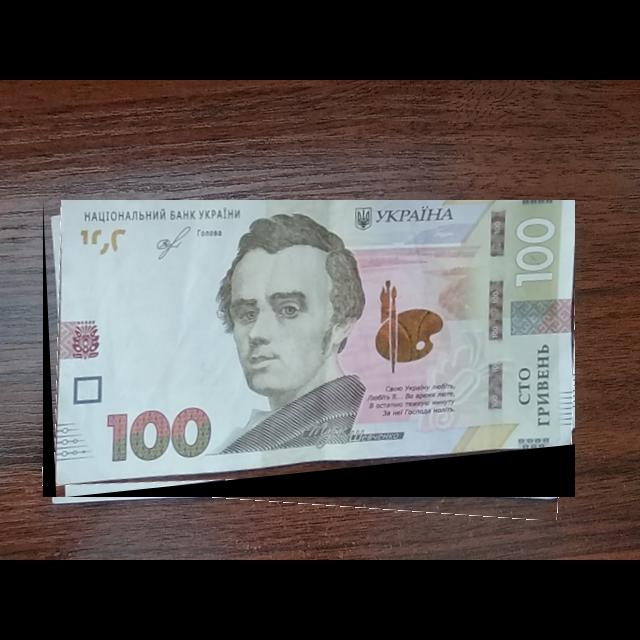100uah: (53, 200, 576, 486)
